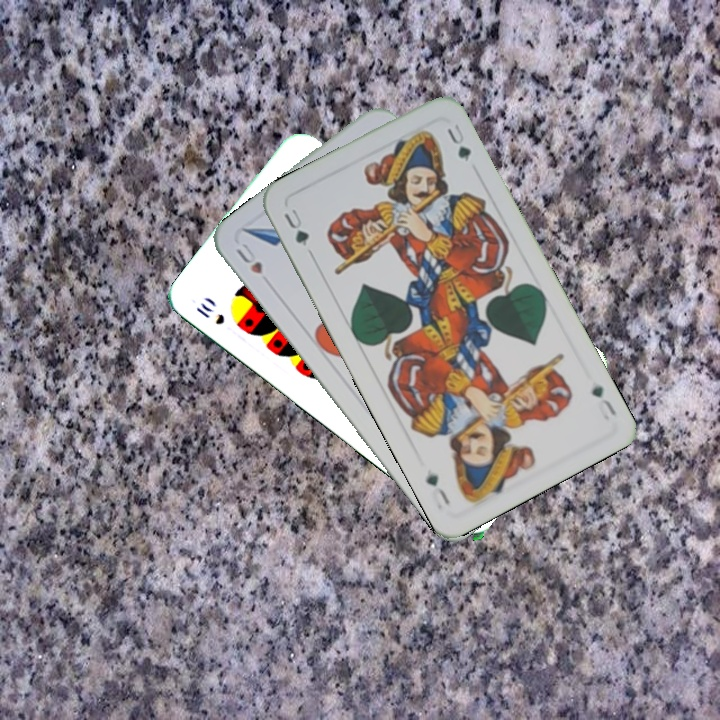GU: (279, 204, 312, 249), (587, 381, 620, 423)
HU: (232, 239, 265, 277)
S10: (191, 298, 228, 328)
